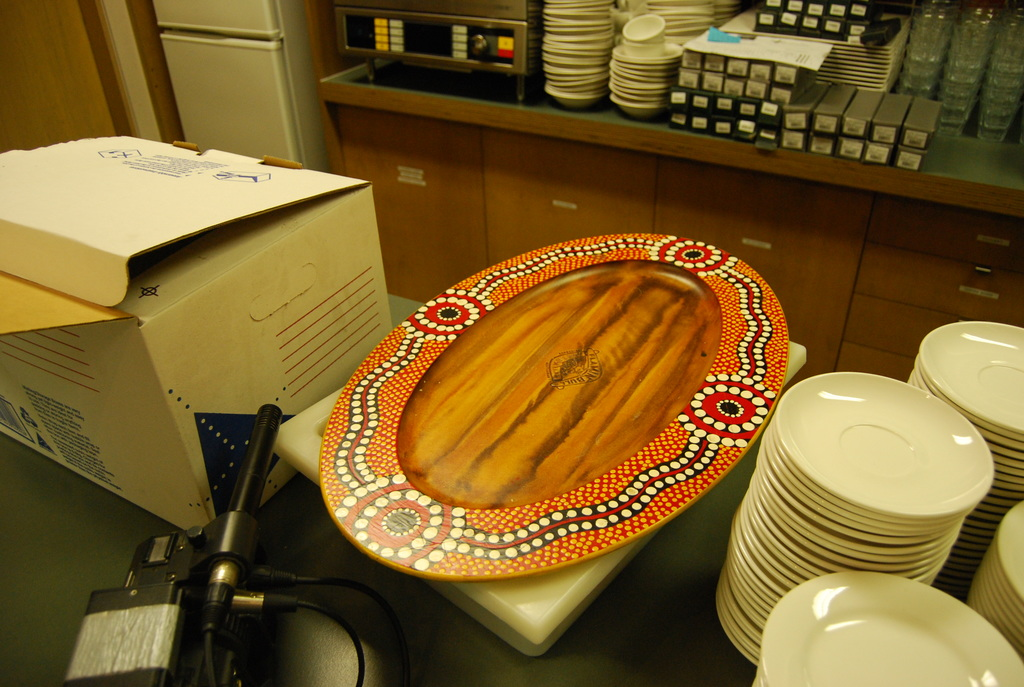plate: (760, 582, 1016, 686)
